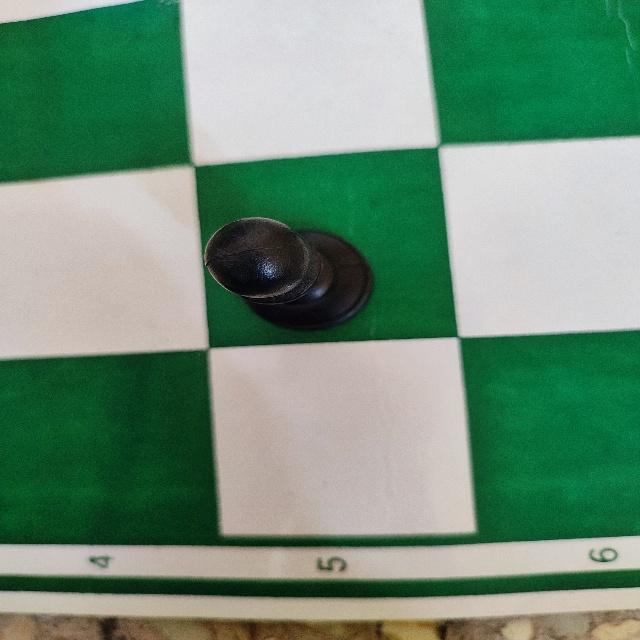Pawn: (202, 214, 376, 334)
